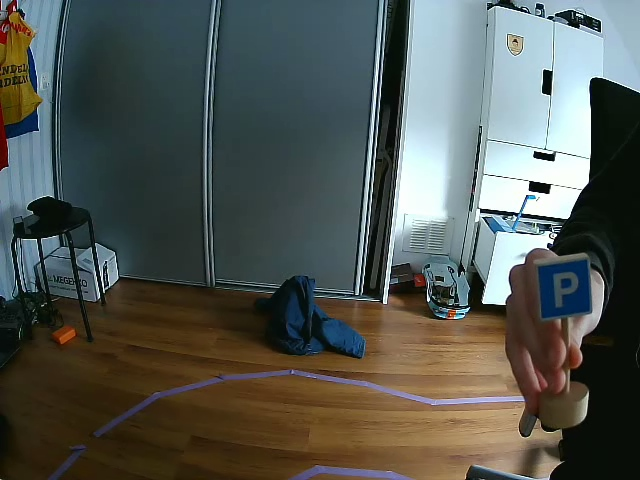parkeerbord: (536, 255, 593, 321)
